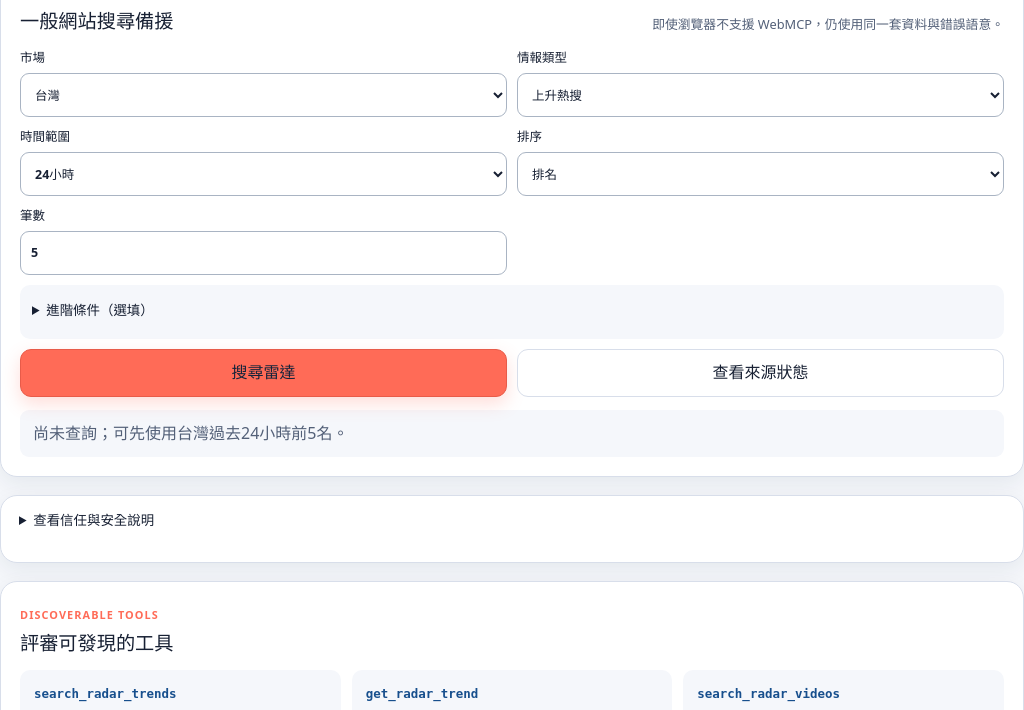
Test: 熱門雷達唯讀WebMCP工具 › 一般網站搜尋在WebMCP不可用時仍可操作
The image size is (1024, 710).
(page scrolled)
Click the button "搜尋雷達" at (264, 373), box [20,349,507,397]
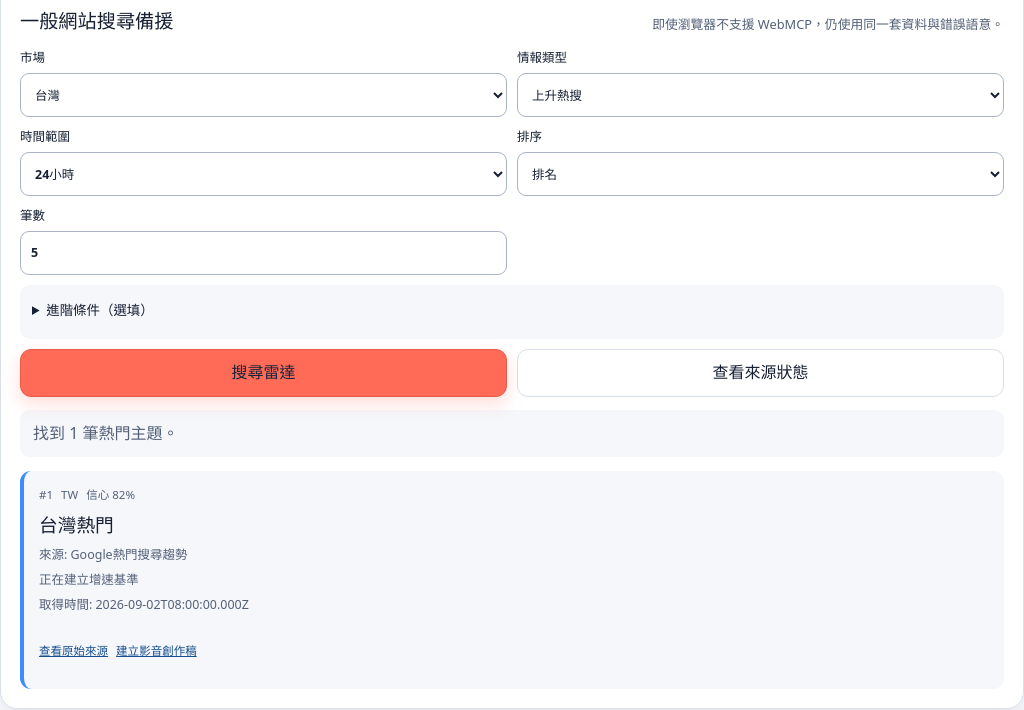
Check: the heading "台灣熱門" is shown, box [39,512,114,537]
